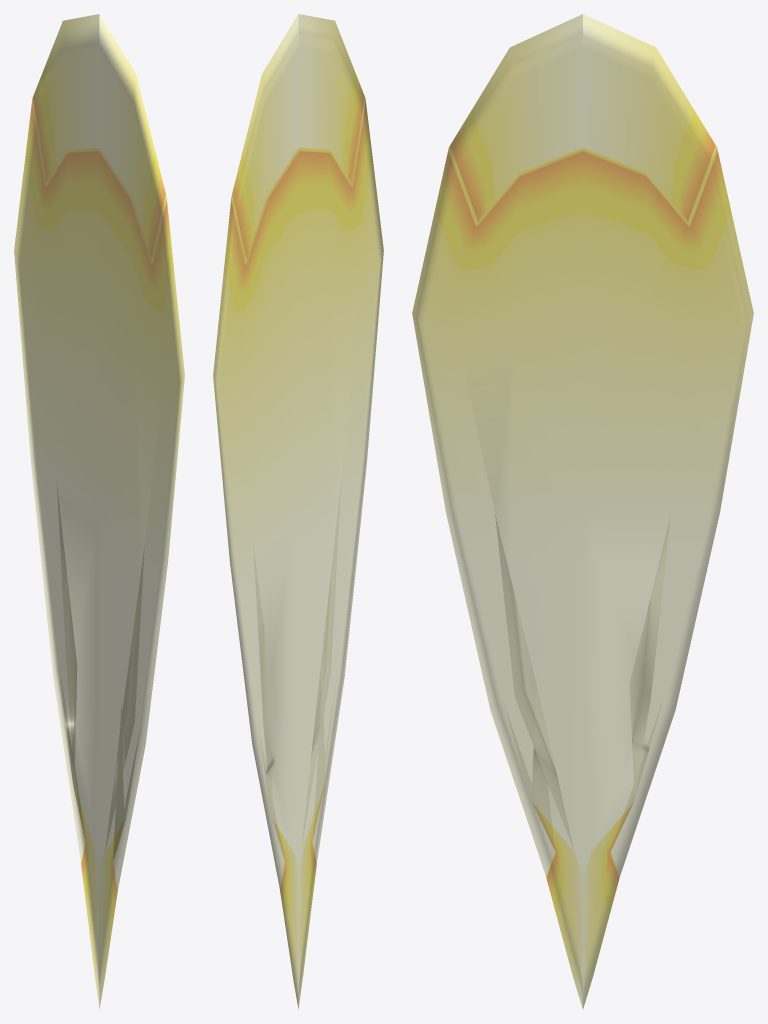
File: slowlight.FBX
3 views of the same model, side by side, from view 1: azimuth 30°, elevation 25°; view 2: azimuth 150°, elevation 25°; view 3: azimuth 270°, elevation 25° (orthographic).
Visible parts, largest first — view 1: Box002, Box001; view 2: Box001, Box002; view 3: Box001, Box002.
Part boxes in pixels (bbox=[...]): Box002: bbox=[98, 14, 184, 1009]; Box001: bbox=[14, 14, 100, 1007]; Box001: bbox=[213, 14, 299, 1009]; Box002: bbox=[297, 14, 383, 1007]; Box001: bbox=[583, 14, 753, 1008]; Box002: bbox=[412, 14, 582, 1008].
Bounding box in the file's own units: 0.3459 × 104 × 32.26.
